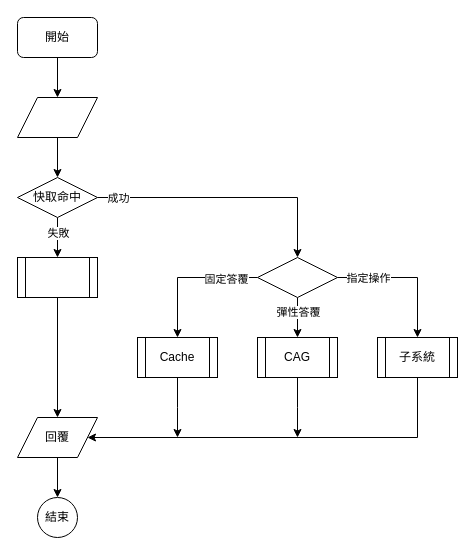
Image size: 475x555. Some labels were removed from this diagram. The shapes that lost their labels are listed below. From the top down, each one's box as (x1, y1, x2, y2) in pixels, then its label:
(16, 96, 98, 138): 提問
(16, 256, 98, 298): RAG
(256, 256, 338, 298): 快取類型
